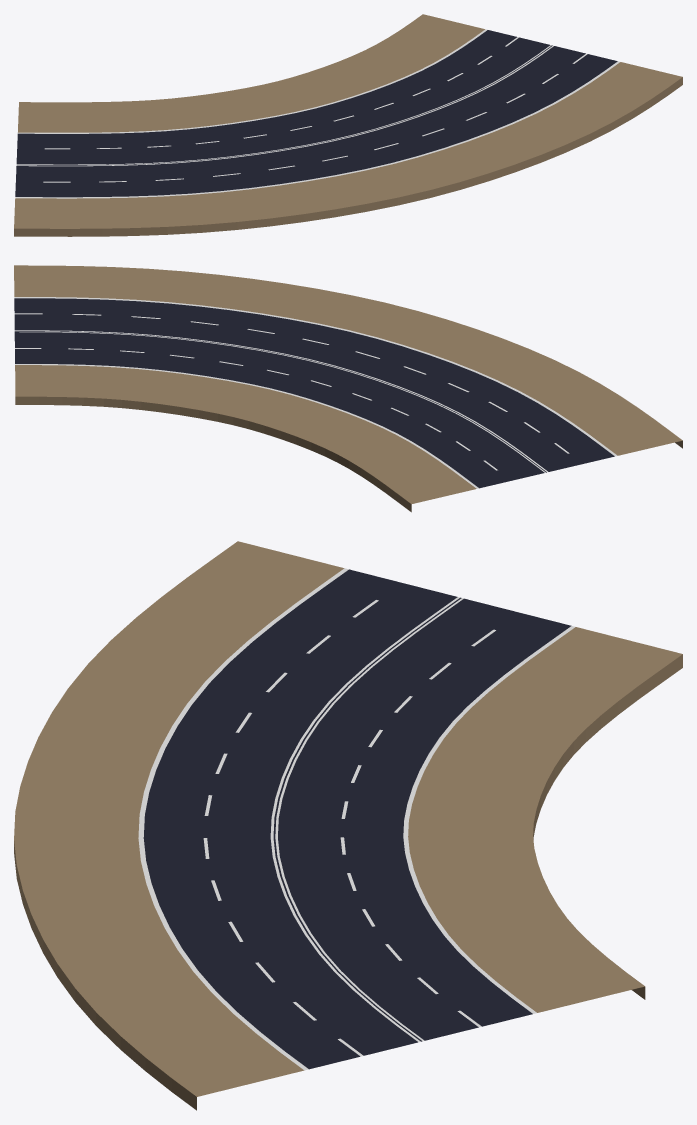
The model's file is CityRoadDuo001Rot45.fbx.
The picture shows the model from 3 angles, top to bottom: view 1: azimuth 30°, elevation 25°; view 2: azimuth 150°, elevation 25°; view 3: azimuth 270°, elevation 25°; orthographic projection. The views are drawn at different scales.
Visible parts, largest first — view 1: Cube; view 2: Cube; view 3: Cube.
Part boxes in pixels (bbox=[...]): Cube: bbox=[14, 14, 682, 236]; Cube: bbox=[14, 265, 682, 512]; Cube: bbox=[14, 541, 682, 1110].
Size of the model in its own units: 1015 by 11.74 by 516.
